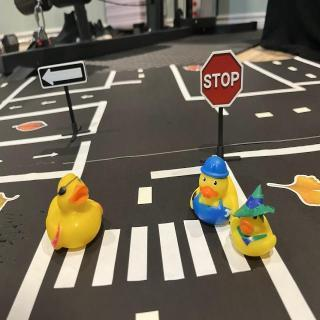duck_regular: (230, 186, 278, 261)
duck_specialty: (47, 174, 105, 252), (191, 156, 240, 228)
road_crosswalk: (53, 216, 255, 292)
road_oneway: (31, 149, 59, 163), (8, 104, 26, 115), (41, 99, 60, 107), (79, 94, 96, 102)
sign_oneway_left: (39, 61, 89, 91)
sign_stop: (202, 51, 245, 113)
